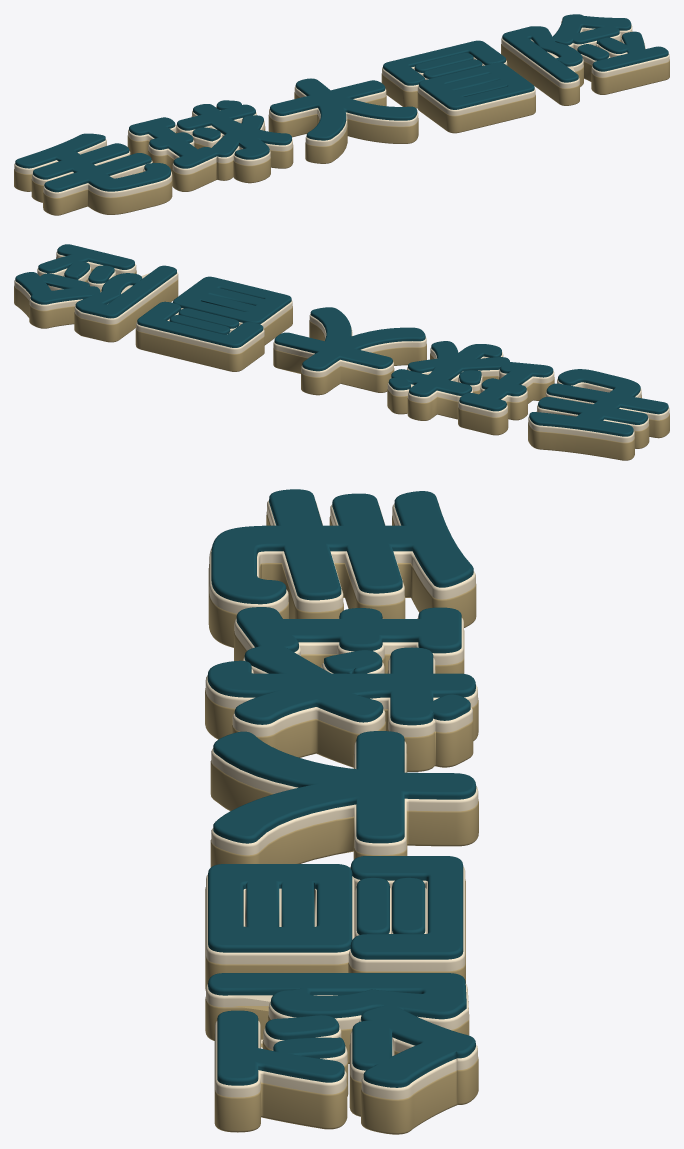
File: adventure_title.glb
3 renders of one model, top to bottom at view 1: azimuth 30°, elevation 25°; view 2: azimuth 150°, elevation 25°; view 3: azimuth 270°, elevation 25°, orthographic. The views are drawn at different scales.
Visible parts, largest first — view 1: adventure_title__Enamel_TitlePeacock, adventure_title__SatinBrass_TitleEdge, adventure_title__Enamel_TitleIvory; view 2: adventure_title__Enamel_TitlePeacock, adventure_title__SatinBrass_TitleEdge, adventure_title__Enamel_TitleIvory; view 3: adventure_title__Enamel_TitlePeacock, adventure_title__SatinBrass_TitleEdge, adventure_title__Enamel_TitleIvory.
Boxes of the visible parts, bbox=[...] form: adventure_title__Enamel_TitlePeacock: bbox=[15, 14, 668, 192]; adventure_title__SatinBrass_TitleEdge: bbox=[14, 31, 669, 215]; adventure_title__Enamel_TitleIvory: bbox=[14, 20, 669, 197]; adventure_title__Enamel_TitlePeacock: bbox=[15, 244, 668, 436]; adventure_title__SatinBrass_TitleEdge: bbox=[14, 257, 669, 460]; adventure_title__Enamel_TitleIvory: bbox=[14, 251, 669, 442]; adventure_title__Enamel_TitlePeacock: bbox=[207, 489, 476, 1087]; adventure_title__SatinBrass_TitleEdge: bbox=[205, 512, 478, 1134]; adventure_title__Enamel_TitleIvory: bbox=[205, 500, 478, 1099].
Bounding box in the file's own units: 4.97 × 0.2059 × 0.9651.
